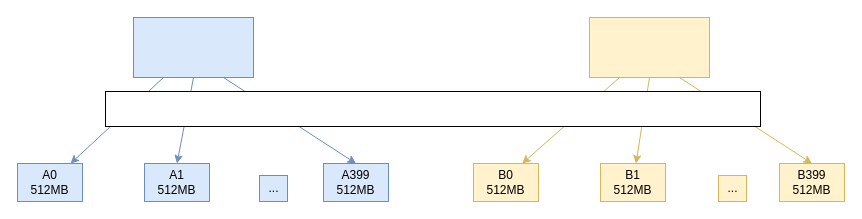
The diagram is 862 pixels wide and 219 high, and some of its shapes have lost their labels. Here are the shapes that lost their labels. From the top down, the centre of each, then its label:
At point 193,47: "文件A 200GB".
At point 649,47: "文件B 200GB".
At point 432,108: "同 一 个 哈 希 函 数".
